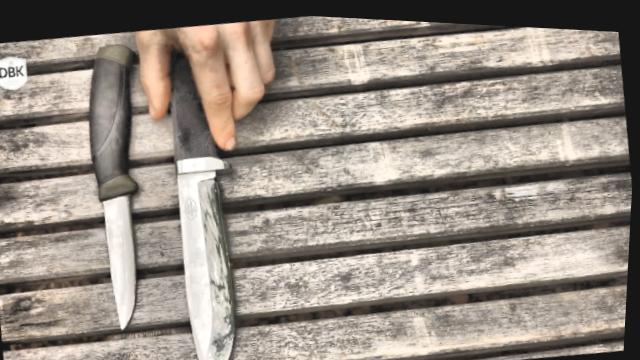knife: (133, 75, 312, 360), (73, 160, 170, 345)
